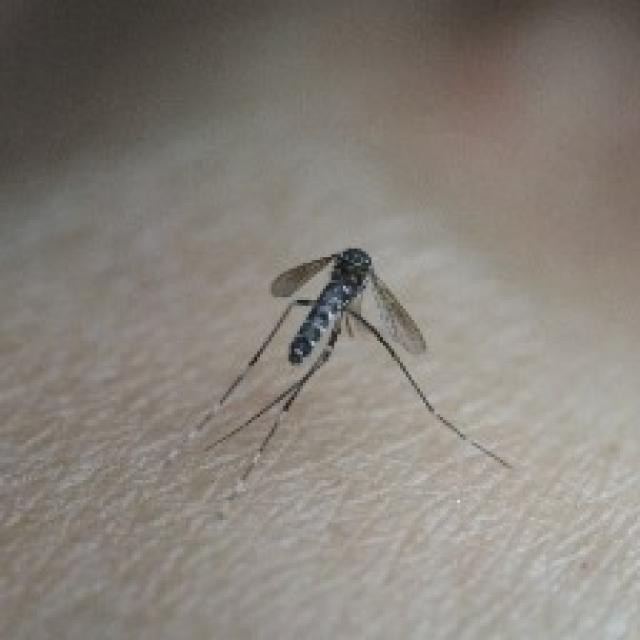aedes: (192, 243, 512, 500)
